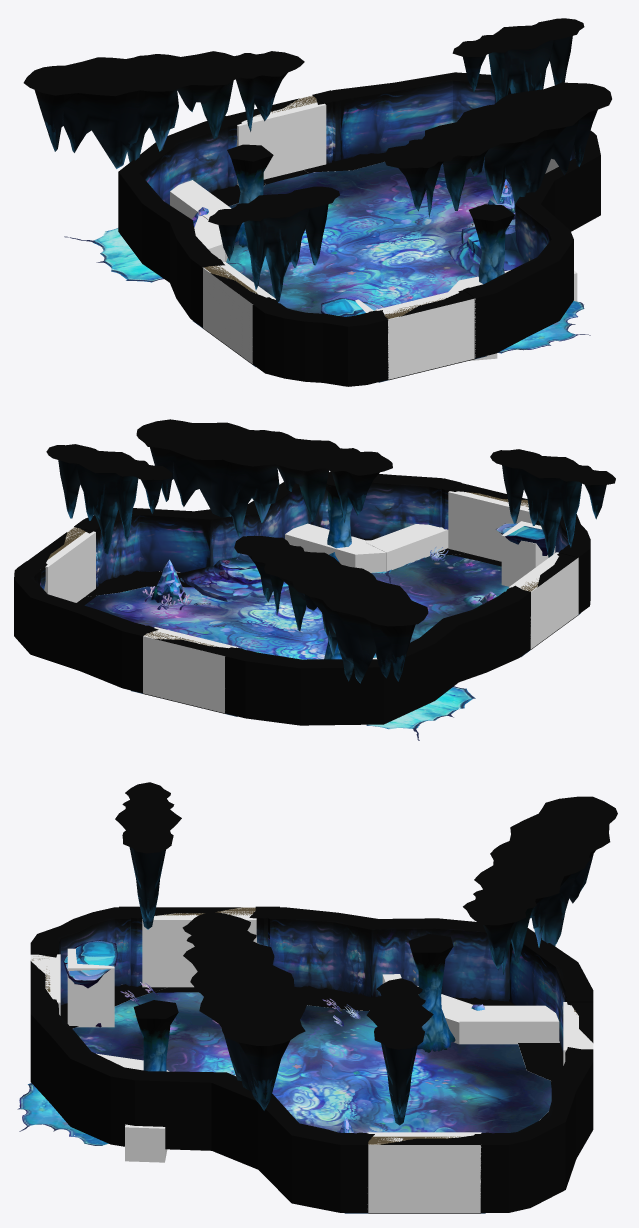
File: Dungeon_052_Room_003.fbx
3 views of the same model, one above another, from view 1: azimuth 30°, elevation 25°; view 2: azimuth 150°, elevation 25°; view 3: azimuth 270°, elevation 25° (orthographic). The views are drawn at different scales.
Visible parts, largest first — view 1: Dun_011_Room_003_Object02, Dun_011_Room_003_wall, Dun_011_Room_003_ground, DoorWay_NavMask (1) (×3), Dungeon_011_Object_010 (×2), Dun_011_Door_002 (×3), Dun_052_Ike, Dun_011_Room_003_Object01, cube_052_Ike_col2_3, Dun_011_Room_003_shadow, Dungeon_052_OB01_Rock01, cube_052_Ike_col2_2; view 2: Dun_011_Room_003_wall, Dun_011_Room_003_Object02, DoorWay_NavMask (1) (×4), Dun_011_Room_003_ground, Dun_011_Door_002 (×4), Dun_011_Room_003_Object01, cube_052_Ike_col1_3, cube_052_Rock01_1, Dun_052_Ike, cube_052_Ike_col1_2, Dun_011_Room_003_shadow, Dungeon_011_Object_010 (+4 smaller); view 3: Dun_011_Room_003_wall, Dun_011_Room_003_Object02, Dun_011_Room_003_ground, DoorWay_NavMask (1) (×4), Dun_011_Door_002 (×4), Dungeon_011_Object_010 (×2), cube_052_Ike_col2_3, Dun_011_Room_003_shadow, cube_052_Rock01_1, Dun_052_Ike, Dungeon_052_OB01_Rock01, cube_052_Ike_col1_2 (+1 smaller).
Boxes of the visible parts, <box> form: Dun_011_Room_003_Object02: <box>23,18,611,301</box>; Dun_011_Room_003_wall: <box>118,72,600,386</box>; Dun_011_Room_003_ground: <box>193,157,515,382</box>; DoorWay_NavMask (1) (×3): <box>202,95,475,379</box>; Dungeon_011_Object_010 (×2): <box>227,144,514,284</box>; Dun_011_Door_002 (×3): <box>192,90,492,379</box>; Dun_052_Ike: <box>64,228,590,353</box>; Dun_011_Room_003_Object01: <box>448,225,524,276</box>; cube_052_Ike_col2_3: <box>170,180,231,219</box>; Dun_011_Room_003_shadow: <box>210,152,385,206</box>; Dungeon_052_OB01_Rock01: <box>321,298,383,316</box>; cube_052_Ike_col2_2: <box>194,216,227,261</box>; Dun_011_Room_003_wall: <box>14,474,590,725</box>; Dun_011_Room_003_Object02: <box>46,419,615,683</box>; DoorWay_NavMask (1) (×4): <box>44,491,578,713</box>; Dun_011_Room_003_ground: <box>84,555,580,716</box>; Dun_011_Door_002 (×4): <box>16,478,587,713</box>; Dun_011_Room_003_Object01: <box>180,553,288,601</box>; cube_052_Ike_col1_3: <box>366,524,448,571</box>; cube_052_Rock01_1: <box>501,521,555,586</box>; Dun_052_Ike: <box>366,557,475,740</box>; cube_052_Ike_col1_2: <box>285,523,369,567</box>; Dun_011_Room_003_shadow: <box>85,538,467,596</box>; Dungeon_011_Object_010: <box>326,471,352,562</box>; Dun_011_Room_003_wall: <box>30,907,593,1212</box>; Dun_011_Room_003_Object02: <box>115,782,617,1125</box>; Dun_011_Room_003_ground: <box>72,992,551,1213</box>; DoorWay_NavMask (1) (×4): <box>30,907,593,1212</box>; Dun_011_Door_002 (×4): <box>30,906,593,1213</box>; Dungeon_011_Object_010 (×2): <box>133,934,455,1071</box>; cube_052_Ike_col2_3: <box>459,1005,559,1044</box>; Dun_011_Room_003_shadow: <box>60,984,563,1120</box>; cube_052_Rock01_1: <box>67,948,114,1027</box>; Dun_052_Ike: <box>17,1083,108,1145</box>; Dungeon_052_OB01_Rock01: <box>63,940,117,1027</box>; cube_052_Ike_col1_2: <box>125,1124,167,1162</box>.
Size of what is drawn, in the model's own units: 17.49 by 5.4 by 16.29.
